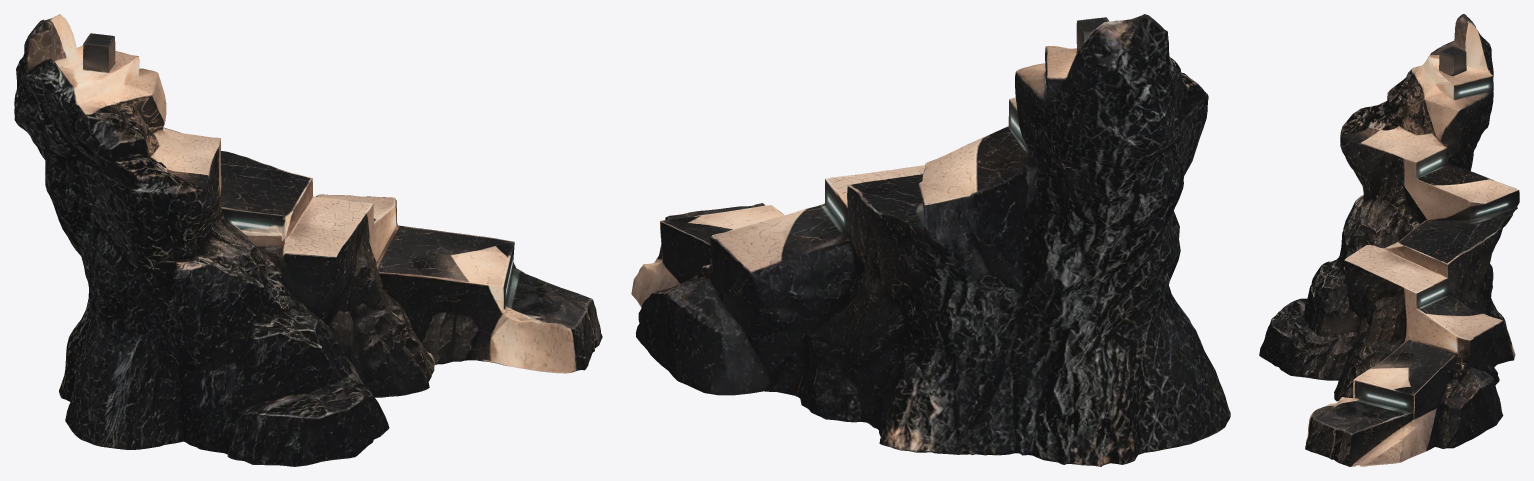
The model's file is level-up-mobile.glb.
3 views of the same model, side by side, from view 1: azimuth 30°, elevation 25°; view 2: azimuth 150°, elevation 25°; view 3: azimuth 270°, elevation 25° (orthographic). The views are drawn at different scales.
Visible parts, largest first — view 1: Mesh0; view 2: Mesh0; view 3: Mesh0.
Part boxes in pixels (x1,y1,x2,y2): Mesh0: [14, 14, 602, 466]; Mesh0: [631, 14, 1230, 466]; Mesh0: [1259, 14, 1519, 466].
Bounding box in the file's own units: 1.9 × 1.36 × 1.15.
Materials: 1 (1 with a texture image).
